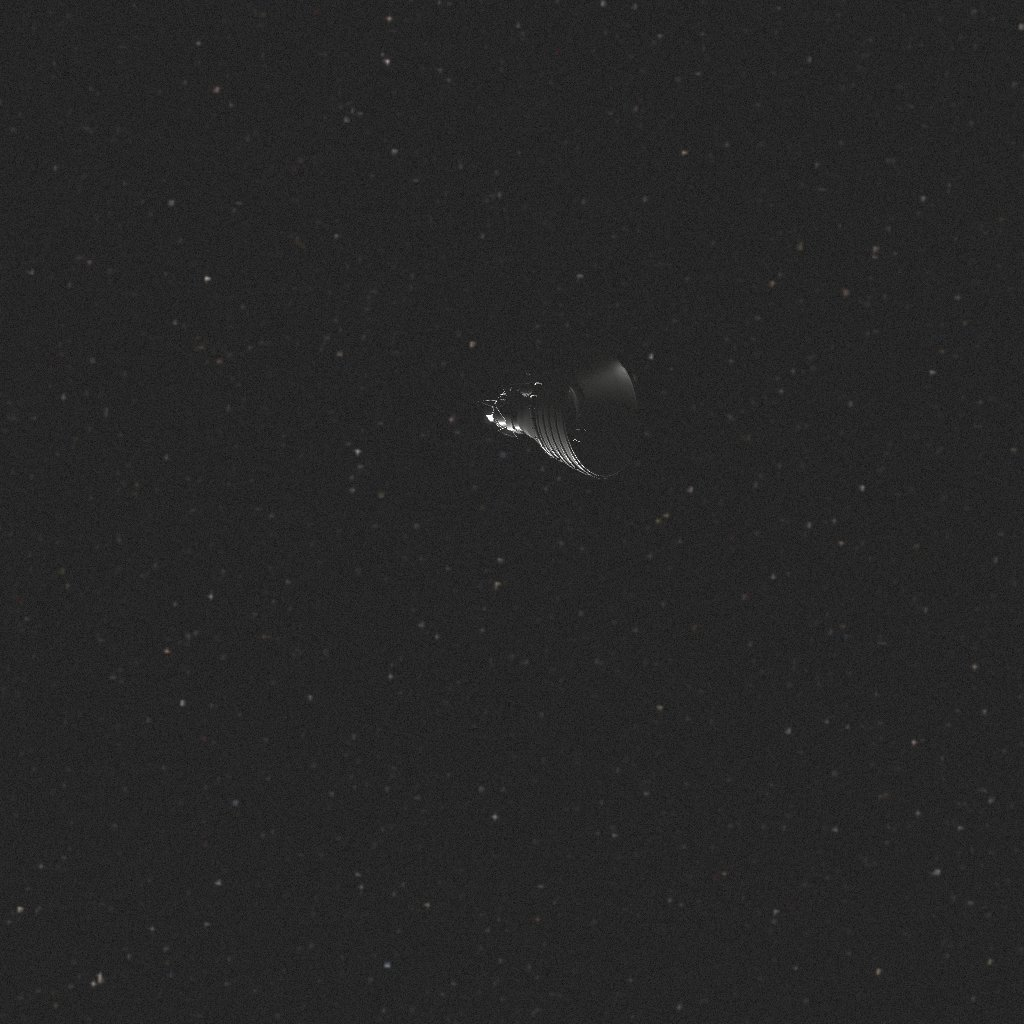debris: (481, 347, 641, 478)
